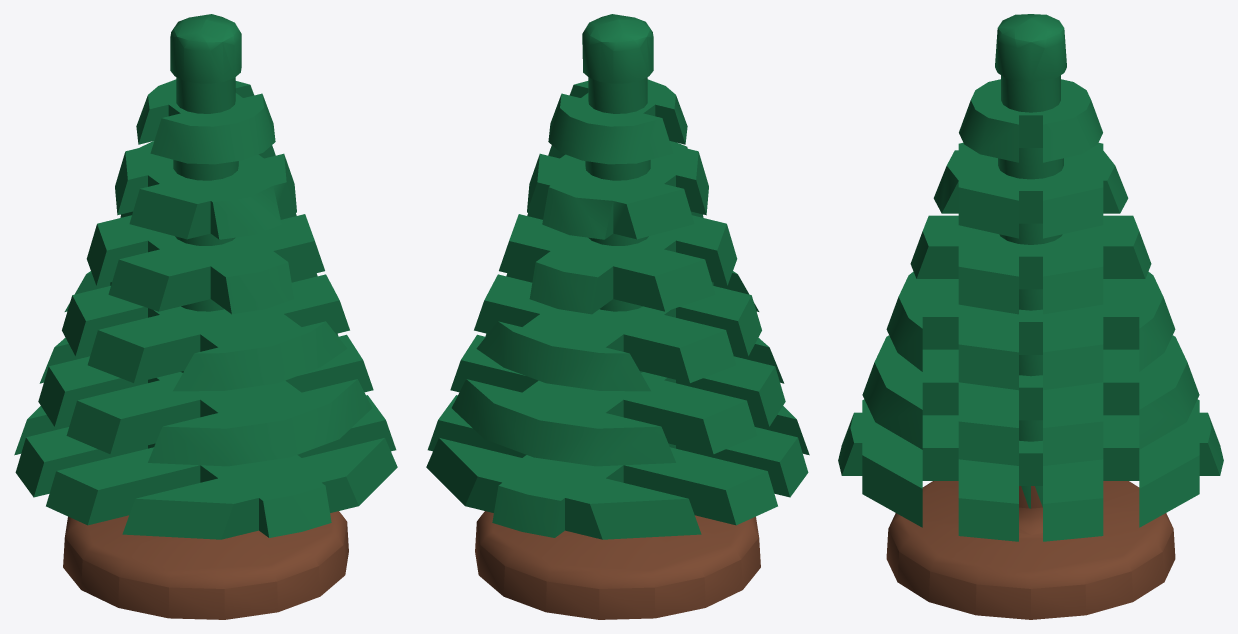
The model's file is pine_small.glb.
3 views of the same model, side by side, from view 1: azimuth 30°, elevation 25°; view 2: azimuth 150°, elevation 25°; view 3: azimuth 270°, elevation 25° (orthographic).
Parts seen in each view (by area): view 1: pine_small; view 2: pine_small; view 3: pine_small.
Boxes of the visible parts, <box> form: pine_small: <box>14,14,397,619</box>; pine_small: <box>426,14,809,619</box>; pine_small: <box>838,14,1223,619</box>.
Bounding box in the file's own units: 1.21 × 1.88 × 1.21.
